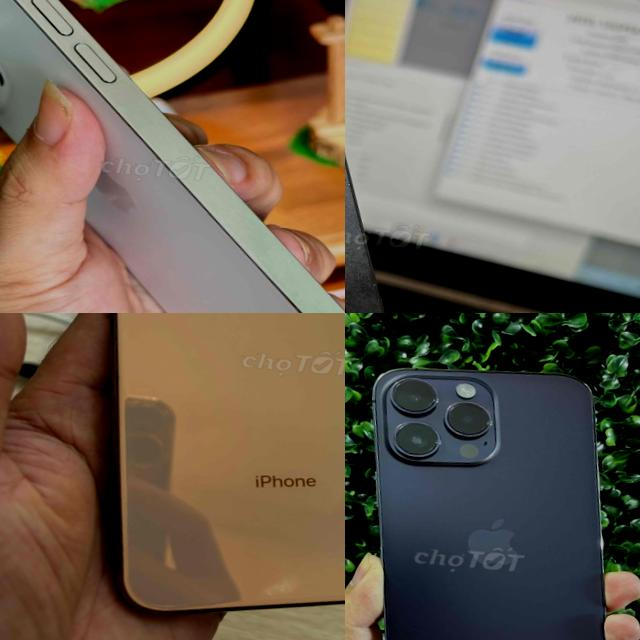gen_12_13: (345, 0, 481, 313)
gen_14: (0, 0, 345, 313), (348, 355, 640, 640)
gen_x_xs: (64, 313, 345, 640)
